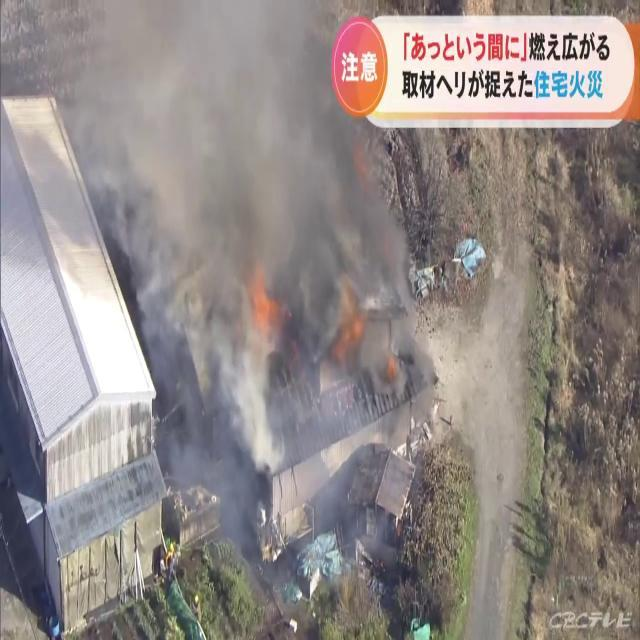Smoke: (111, 1, 442, 546)
